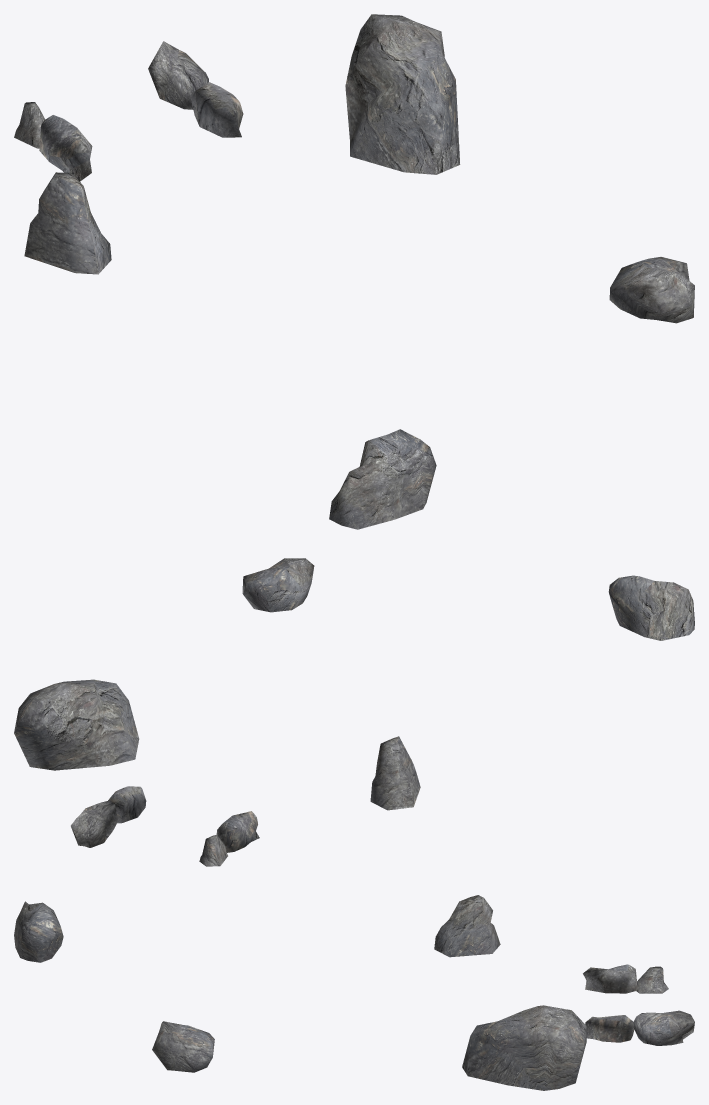
Rendered from tableStones.fbx.
3 views of the same model, one above another, from view 1: azimuth 30°, elevation 25°; view 2: azimuth 150°, elevation 25°; view 3: azimuth 270°, elevation 25° (orthographic). The views are drawn at different scales.
Parts seen in each view (by area): view 1: polySurface1; view 2: polySurface1; view 3: polySurface1.
Part boxes in pixels (box(x1,y1,x2,y2)): polySurface1: box(14, 14, 694, 529); polySurface1: box(14, 558, 694, 866); polySurface1: box(14, 895, 694, 1090).
Size of the model in its own units: 96.86 by 21.11 by 170.
